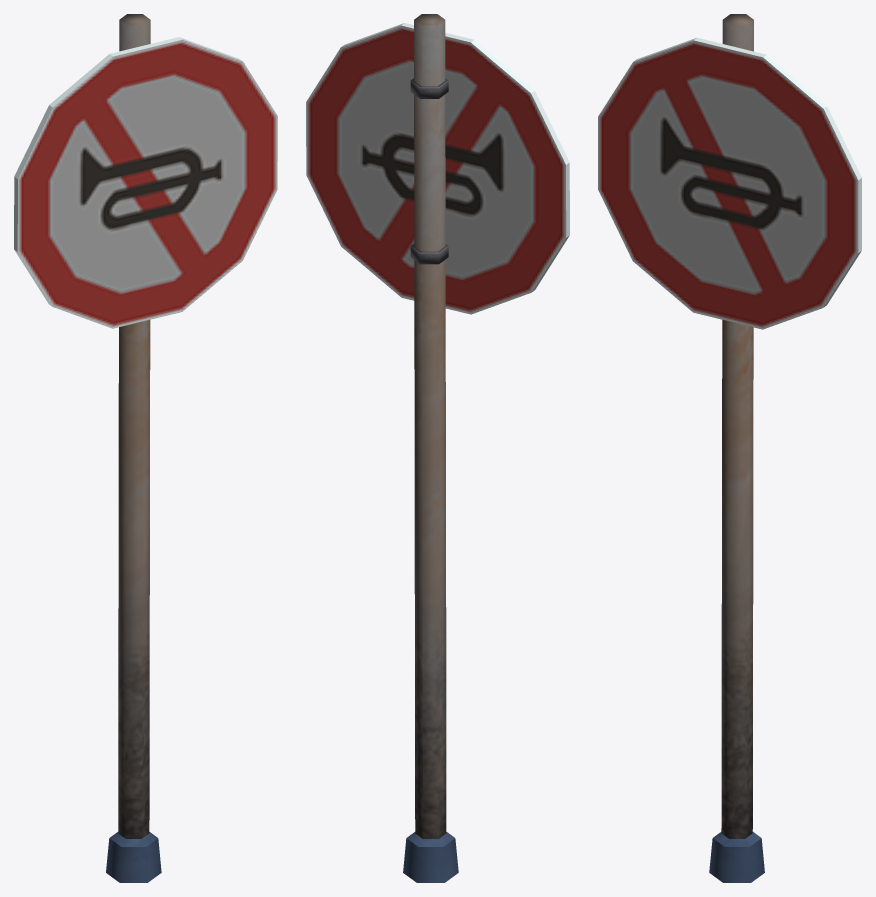
The model's file is jiedao_BJ_009.fbx.
3 renders of one model, left to right at view 1: azimuth 30°, elevation 25°; view 2: azimuth 150°, elevation 25°; view 3: azimuth 330°, elevation 25°, orthographic.
Visible parts, largest first — view 1: BJ009; view 2: BJ009; view 3: BJ009.
Part boxes in pixels (x1=…): BJ009: x1=14, y1=14, x2=277, y2=882; BJ009: x1=306, y1=14, x2=569, y2=882; BJ009: x1=598, y1=14, x2=861, y2=882.
Size of the model in its own units: 51.12 by 9.49 by 160.
